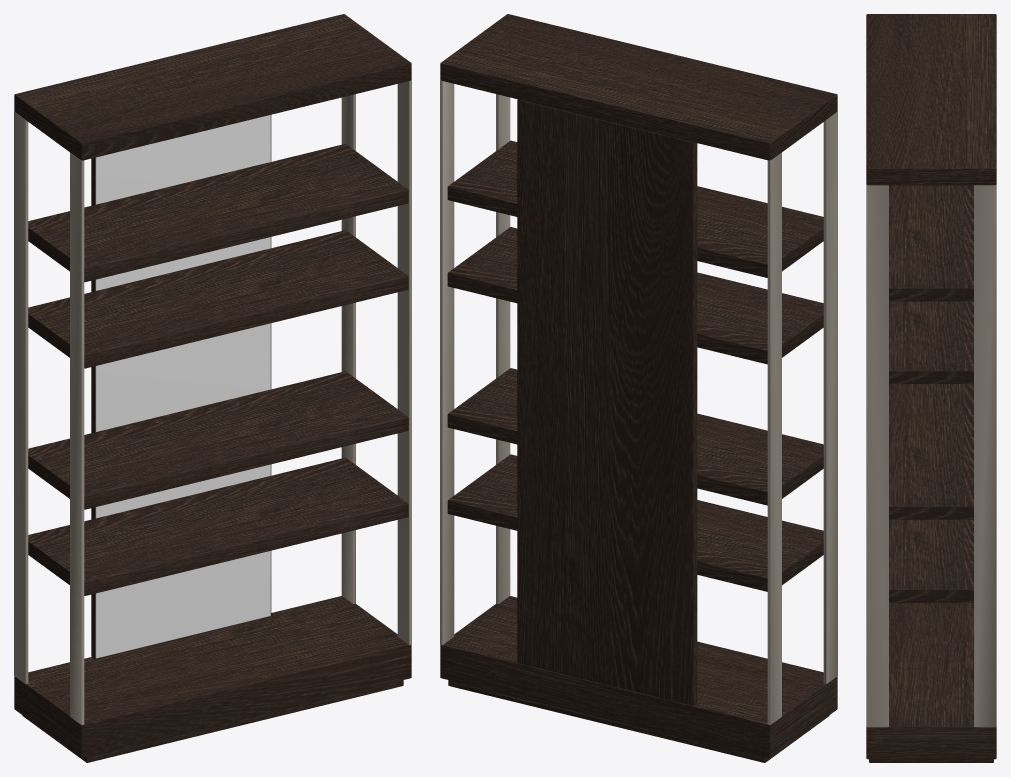
File: Shelf.fbx
The picture shows the model from 3 angles, left to right: view 1: azimuth 30°, elevation 25°; view 2: azimuth 150°, elevation 25°; view 3: azimuth 270°, elevation 25°; orthographic projection. The views are drawn at different scales.
Visible parts, largest first — view 1: shelf-35053_frame_brown; view 2: shelf-35053_frame_brown; view 3: shelf-35053_frame_brown.
Boxes of the visible parts, x1,y1,x2,y2 form: shelf-35053_frame_brown: [14, 14, 411, 762]; shelf-35053_frame_brown: [440, 14, 837, 762]; shelf-35053_frame_brown: [866, 14, 996, 762].
Size of the model in its own units: 1 by 1.8 by 0.3549.
Materials: 1 (1 with a texture image).
